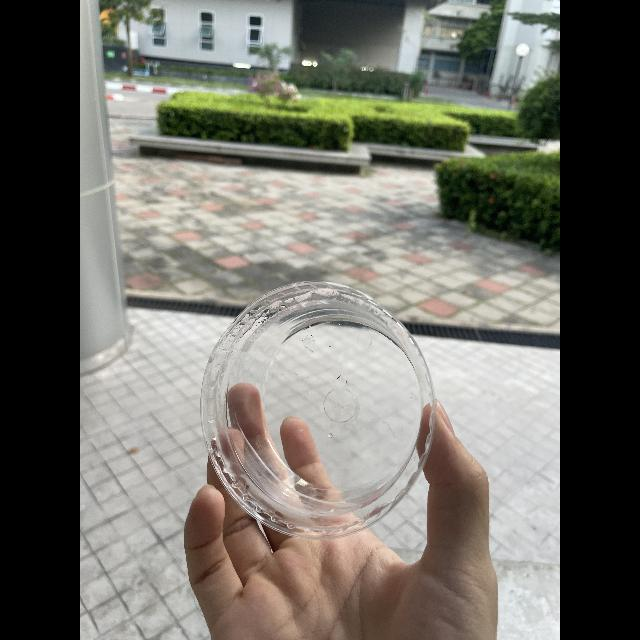plastic_cup_lid: (187, 276, 445, 544)
